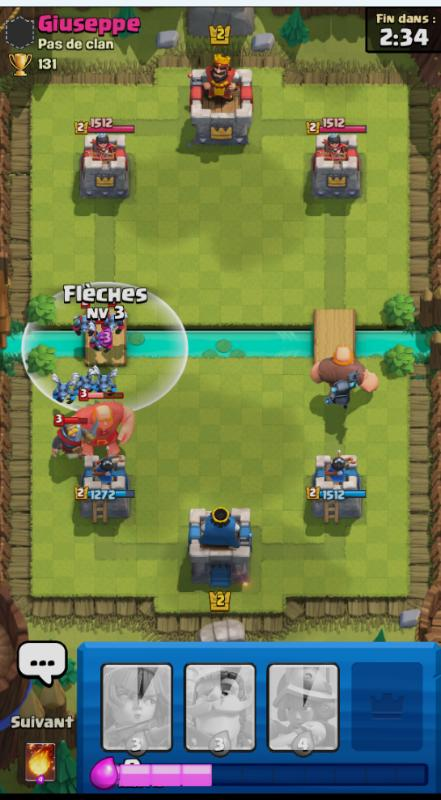chevalier: (46, 421, 92, 463)
gargouille: (47, 375, 80, 411), (98, 306, 133, 339), (86, 324, 120, 355), (90, 367, 125, 397), (66, 309, 101, 337), (70, 367, 95, 399)
geant: (301, 334, 393, 395), (68, 401, 132, 454)
mini_PEKKA: (322, 374, 361, 415)
